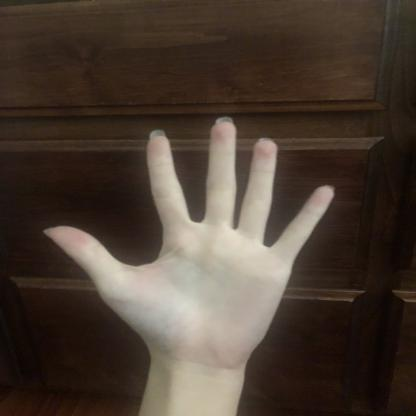palm: (34, 111, 339, 366)
